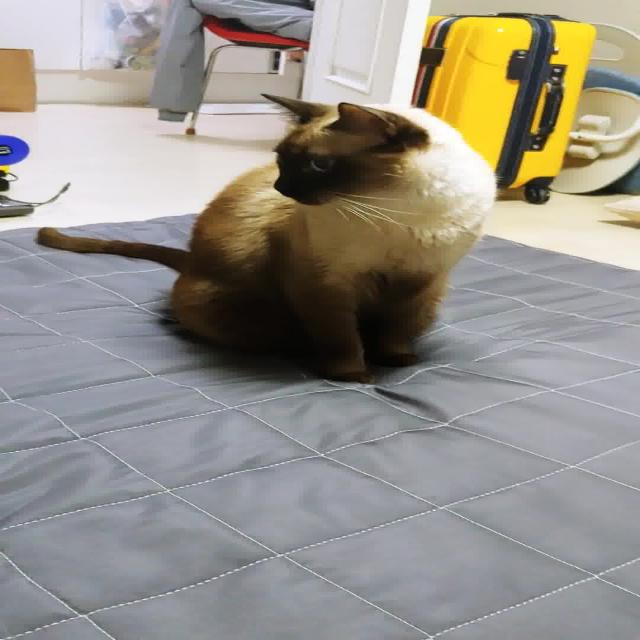cat: (22, 88, 502, 386)
